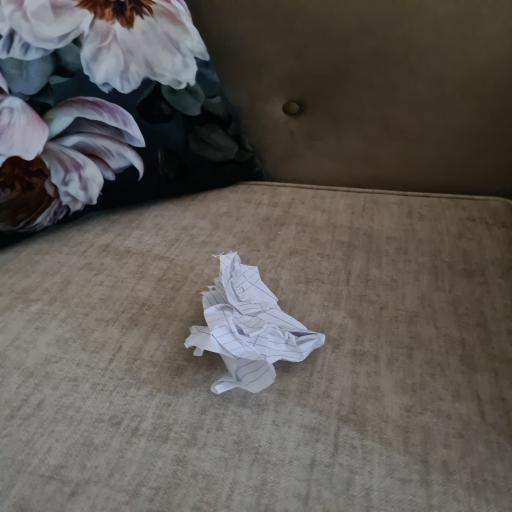Kertas: (189, 252, 325, 393)
